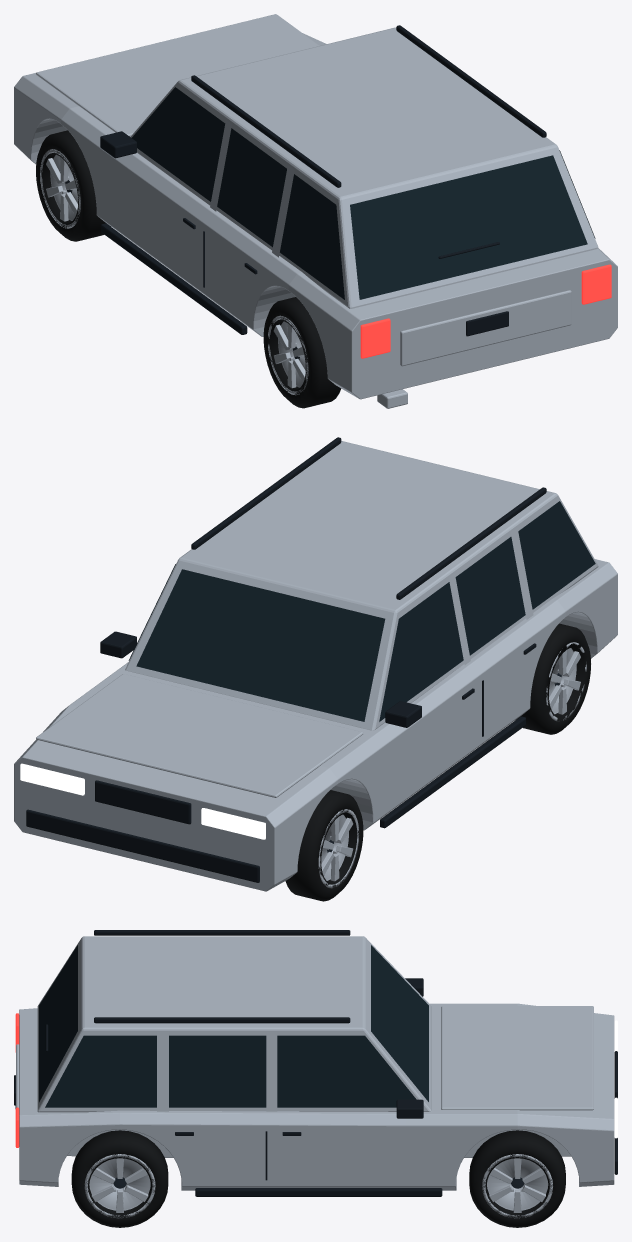
File: ns-meridian-01.glb
The picture shows the model from 3 angles, top to bottom: view 1: azimuth 30°, elevation 25°; view 2: azimuth 150°, elevation 25°; view 3: azimuth 270°, elevation 25°; orthographic projection. The views are drawn at different scales.
Visible parts, largest first — view 1: coachwork, wagon-cabin, rear-glass, side-glass-left, bonnet, tailgate-apron, tire-rear-left, tire-front-left, rocker-left, roof-rail-left, roof-rail-right, cargo-tail-left (+7 smaller); view 2: coachwork, wagon-cabin, windshield, bonnet, side-glass-left, tire-front-left, lower-grille, tire-rear-left, wagon-grille, rocker-left, roof-rail-left, roof-rail-right (+8 smaller); view 3: coachwork, wagon-cabin, side-glass-right, bonnet, windshield, tire-front-right, tire-rear-right, rear-glass, rim-front-right, rim-rear-right, rocker-right, roof-rail-right (+4 smaller).
Part boxes in pixels (bbox=[...]): coachwork: bbox=[14, 33, 617, 399]; wagon-cabin: bbox=[130, 27, 598, 308]; rear-glass: bbox=[350, 155, 587, 299]; side-glass-left: bbox=[132, 87, 344, 299]; bonnet: bbox=[36, 14, 319, 136]; tailgate-apron: bbox=[400, 290, 571, 366]; tire-rear-left: bbox=[263, 297, 341, 408]; tire-front-left: bbox=[36, 130, 110, 241]; rocker-left: bbox=[101, 223, 247, 334]; roof-rail-left: bbox=[191, 75, 341, 187]; roof-rail-right: bbox=[396, 25, 546, 137]; cargo-tail-left: bbox=[360, 318, 390, 358]; coachwork: bbox=[14, 559, 617, 891]; wagon-cabin: bbox=[125, 441, 598, 730]; windshield: bbox=[136, 569, 385, 721]; bonnet: bbox=[36, 674, 363, 797]; side-glass-left: bbox=[379, 501, 595, 721]; tire-front-left: bbox=[285, 790, 363, 901]; lower-grille: bbox=[26, 809, 259, 882]; tire-rear-left: bbox=[516, 623, 590, 734]; wagon-grille: bbox=[95, 780, 191, 824]; rocker-left: bbox=[380, 716, 525, 828]; roof-rail-left: bbox=[396, 487, 546, 599]; roof-rail-right: bbox=[191, 437, 341, 549]; coachwork: bbox=[19, 1003, 614, 1190]; wagon-cabin: bbox=[37, 936, 431, 1112]; side-glass-right: bbox=[45, 1035, 416, 1107]; bonnet: bbox=[441, 1006, 593, 1110]; windshield: bbox=[371, 945, 428, 1101]; tire-front-right: bbox=[469, 1130, 565, 1227]; tire-rear-right: bbox=[71, 1130, 168, 1227]; rear-glass: bbox=[39, 945, 77, 1102]; rim-front-right: bbox=[482, 1154, 552, 1218]; rim-rear-right: bbox=[84, 1154, 155, 1218]; rocker-right: bbox=[195, 1188, 442, 1196]; roof-rail-right: bbox=[94, 1017, 350, 1023].
Bounding box in the file's own units: 2.31 × 1.61 × 4.5.
